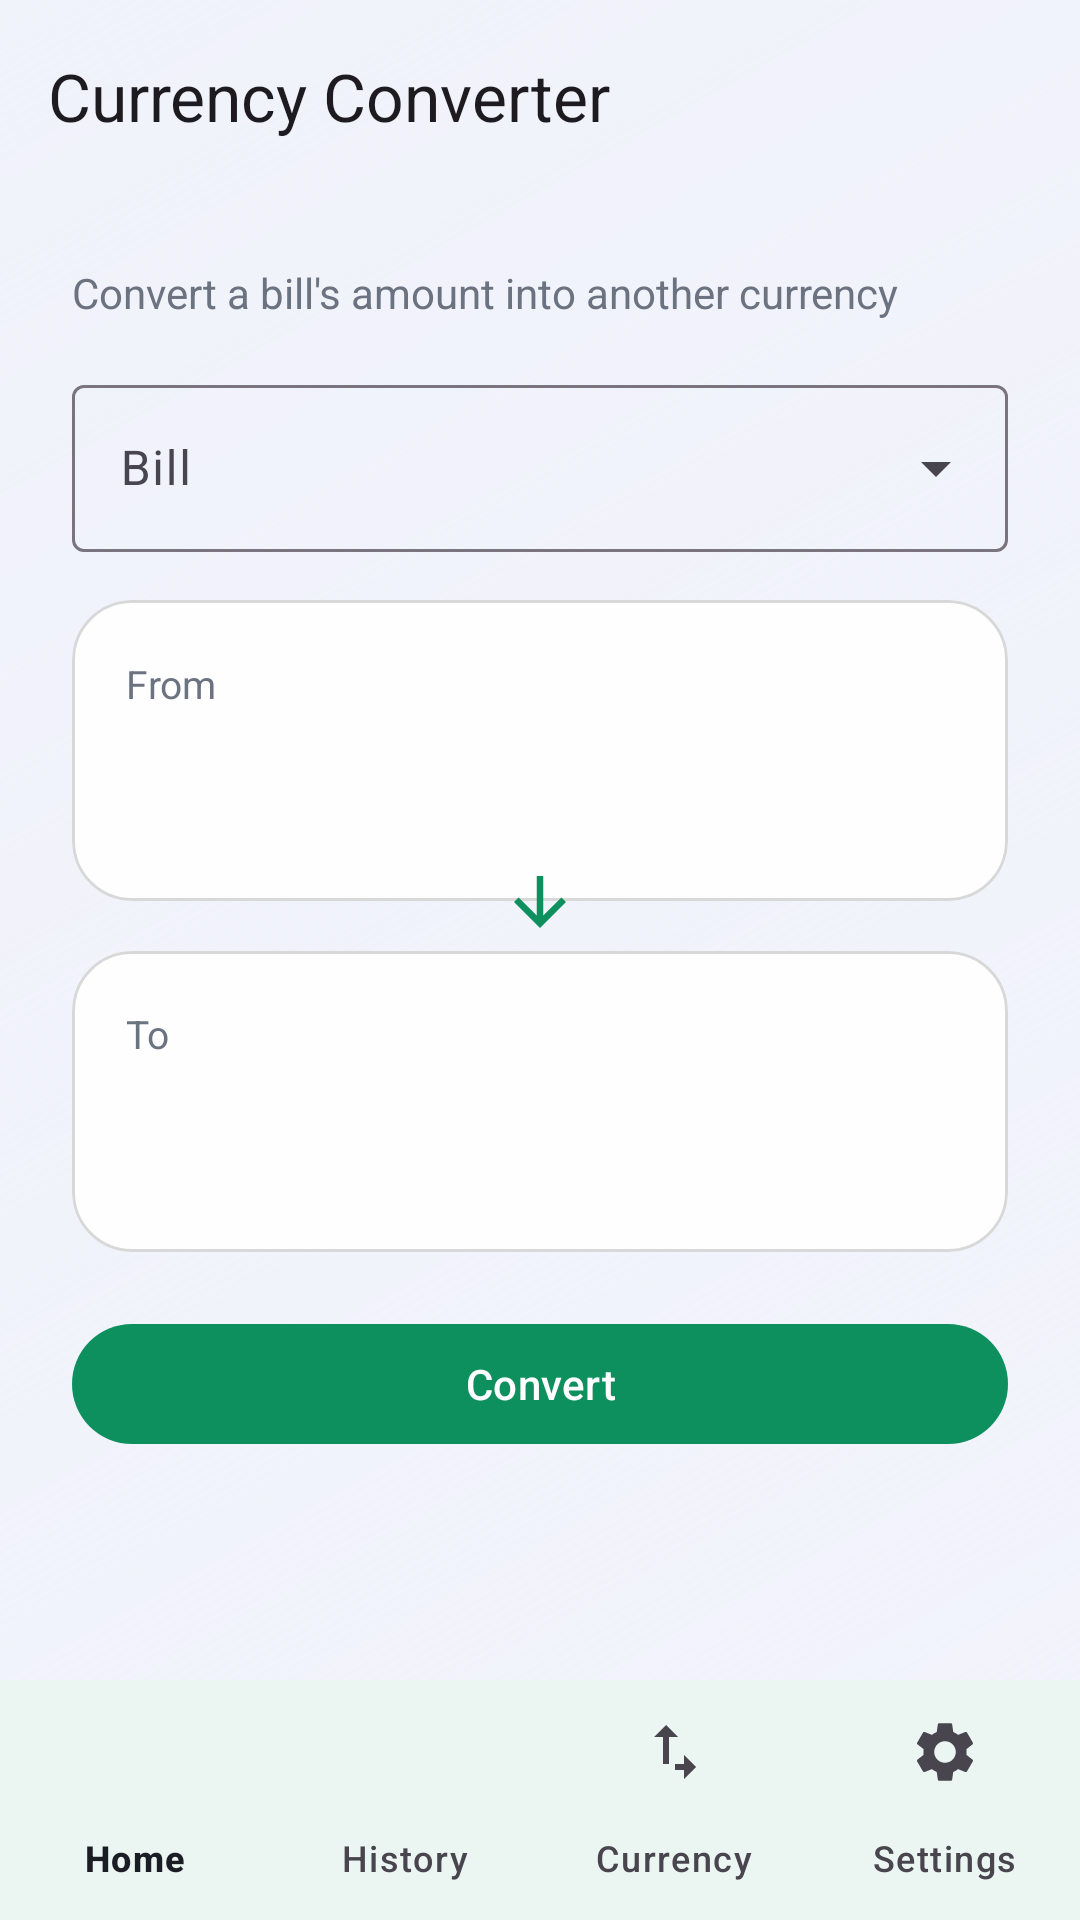

Named icons in this screenshot (1080px x 1920px) and their bounding boxes, (x1, y1, x2, y2):
arrow downward: (501, 876, 579, 928)
